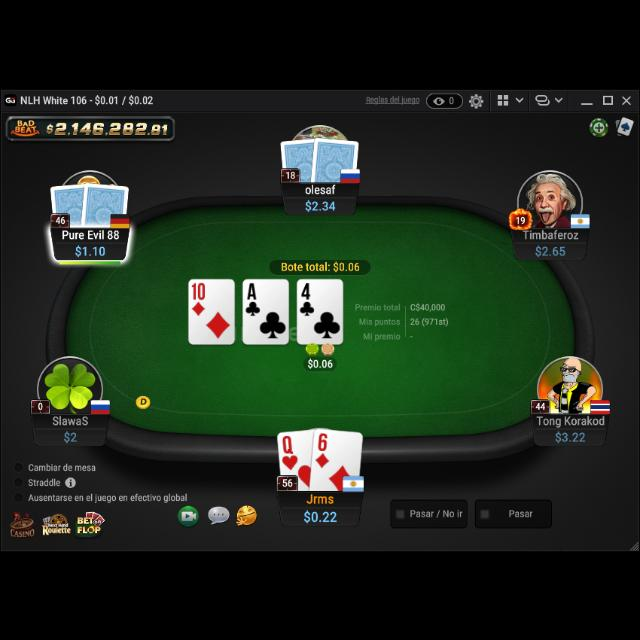2s: (298, 278, 316, 316)
4c: (298, 278, 316, 316)
6d: (314, 431, 332, 469)
Ad: (280, 432, 300, 471)
Qd: (280, 432, 300, 470)
bet_text: (306, 355, 336, 369)
card_back: (310, 133, 362, 185), (80, 179, 130, 229), (48, 180, 96, 228), (280, 134, 324, 182)
dealer: (134, 390, 152, 410)
pot_text: (282, 258, 361, 272)
stack_text: (303, 506, 339, 522), (74, 242, 108, 258), (553, 426, 587, 442), (303, 197, 337, 211), (534, 242, 566, 256), (64, 427, 78, 441)
